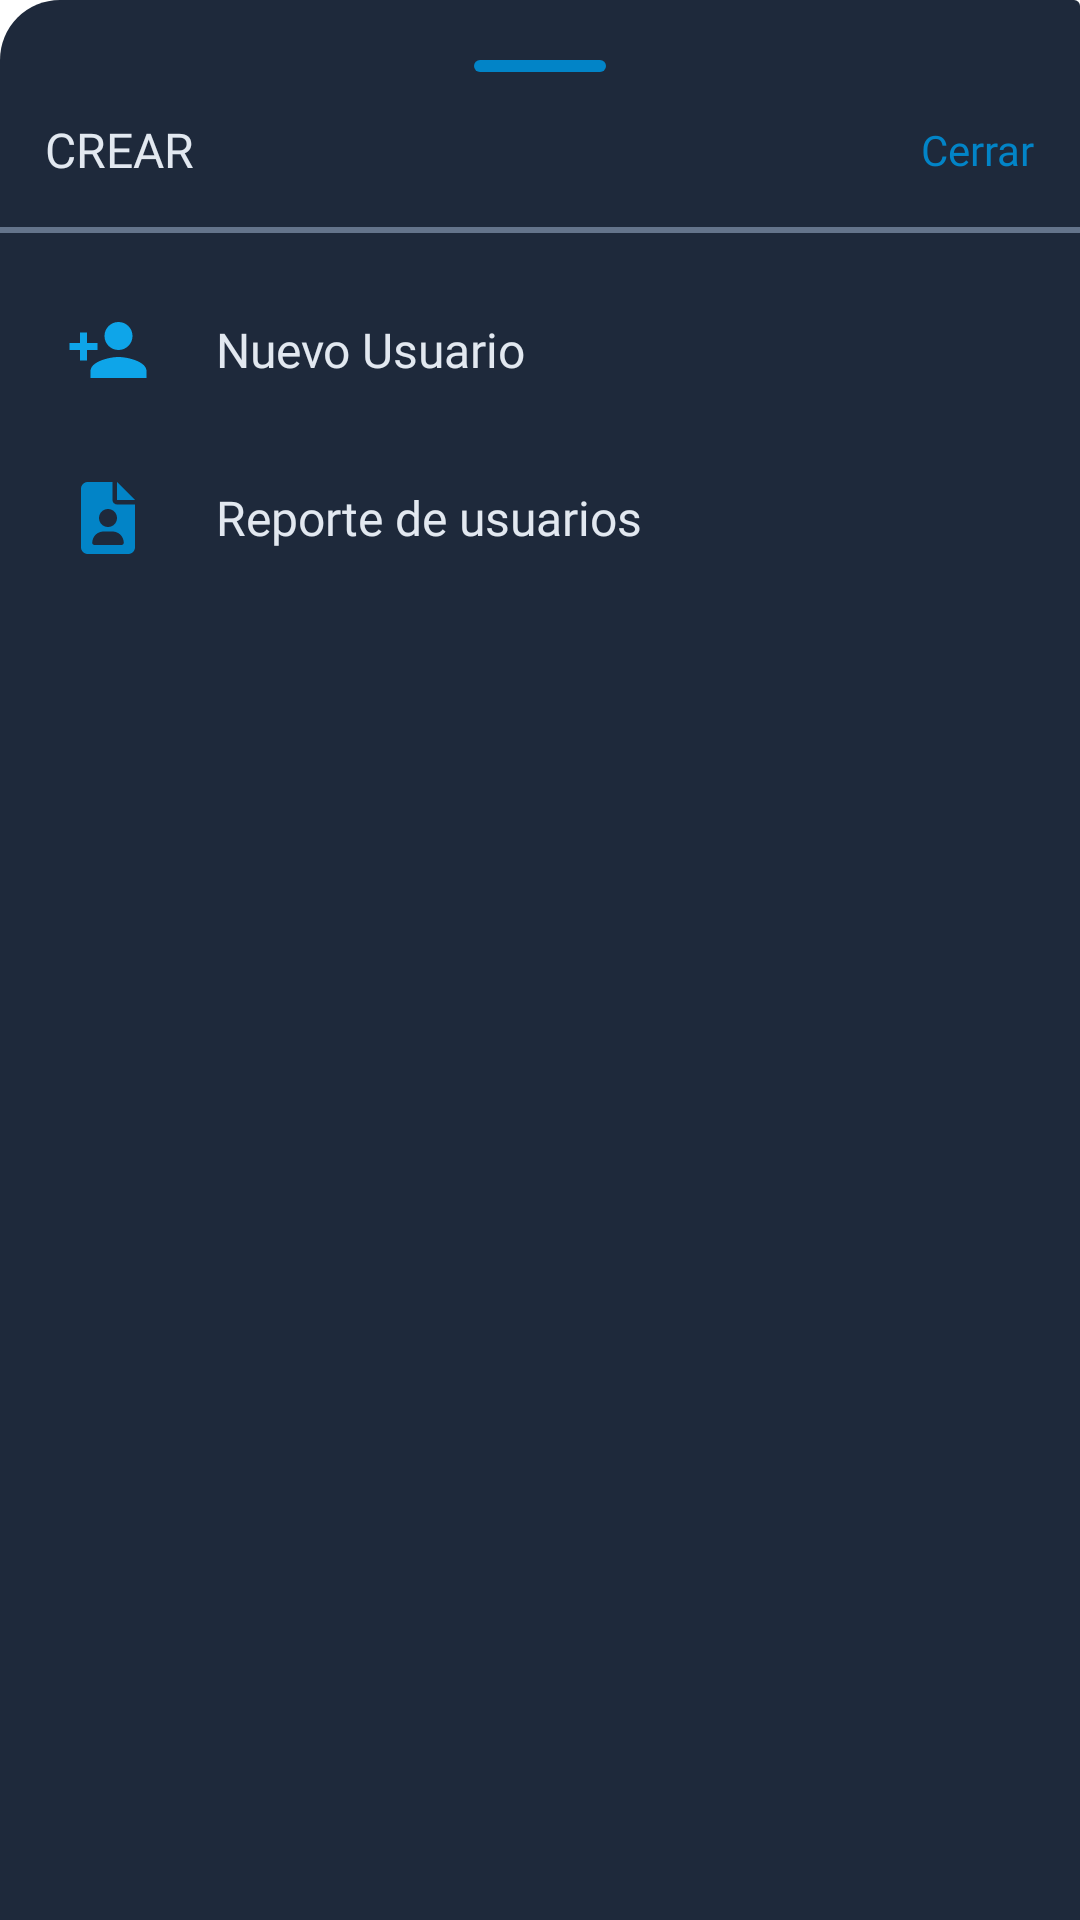

Where icons sit on this 1080×1920 app screen, as (x1, y1, x2, y2):
file user: (81, 482, 135, 554)
person add: (69, 322, 147, 378)
